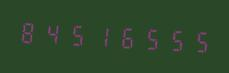eight: (17, 14, 40, 49)
five: (65, 17, 88, 51), (137, 21, 160, 55), (161, 22, 184, 56), (185, 23, 208, 57)
four: (41, 16, 64, 50)
one: (89, 18, 112, 52)
six: (113, 19, 136, 54)
